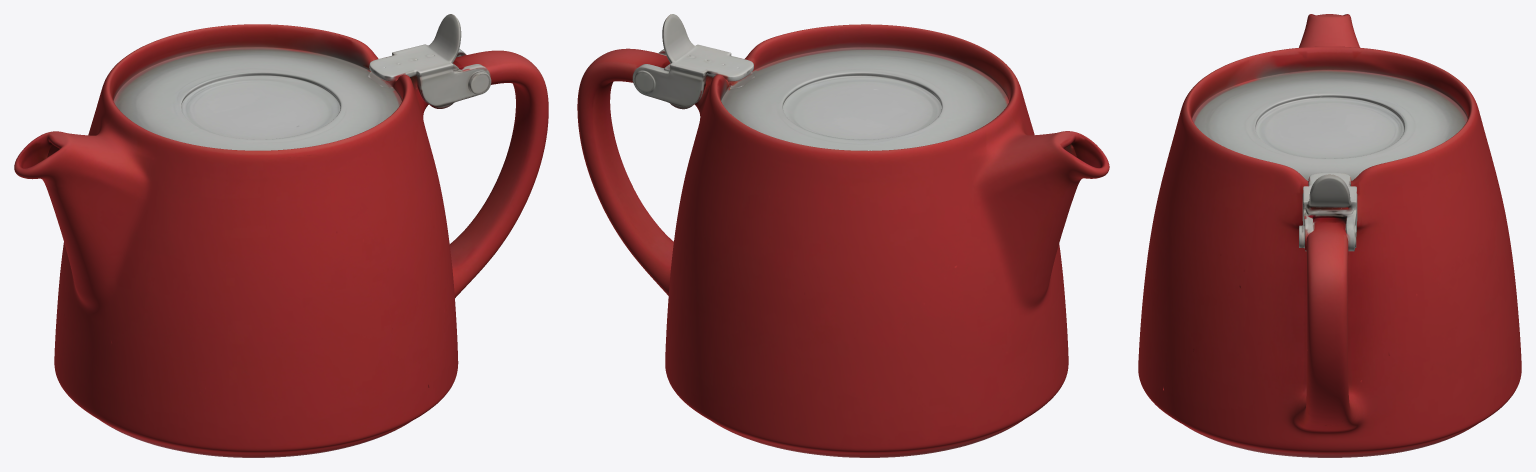
3 renders of one model, left to right at view 1: azimuth 30°, elevation 25°; view 2: azimuth 150°, elevation 25°; view 3: azimuth 270°, elevation 25°, orthographic. The views are drawn at different scales.
Parts seen in each view (by area): view 1: node_0; view 2: node_0; view 3: node_0.
Boxes of the visible parts, box(x1,y1,x2,y2) form: node_0: box(14, 14, 548, 457); node_0: box(577, 14, 1109, 457); node_0: box(1138, 14, 1521, 457).
Size of the model in its own units: 1.11 by 0.6455 by 0.7405.
Materials: 1 (1 with a texture image).
